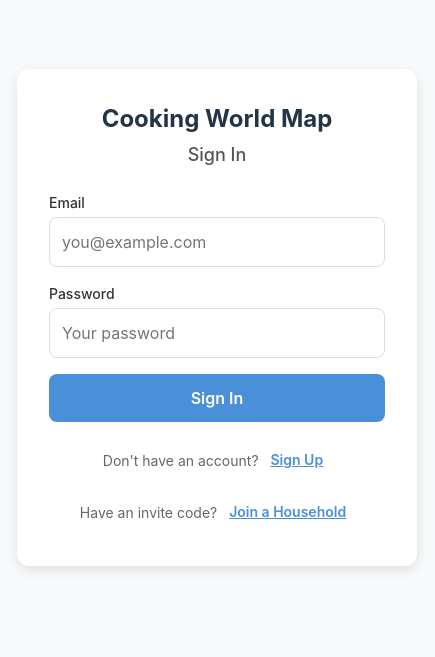
Scenario: AuthGate › Join Household flow (Req 8.4, 8.8) › shows validation error when invite code is empty
Expected: the field labelled "Email" is shown, 49,216 -> 385,266
// Switch to join-household mode
Click the button "Join a Household" at (288, 512), box 221,490 -> 354,534
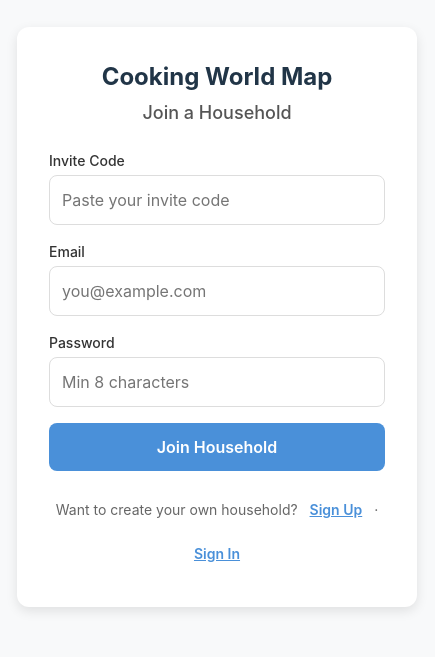
Type "partner@example.com" into the field labelled "Email" at (217, 291), box 49,266 -> 385,316
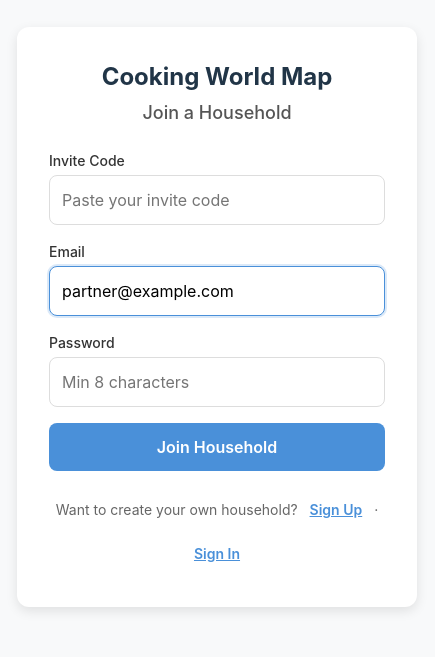
Type "password123" into the password field labelled "Password" at (217, 382), box 49,357 -> 385,407
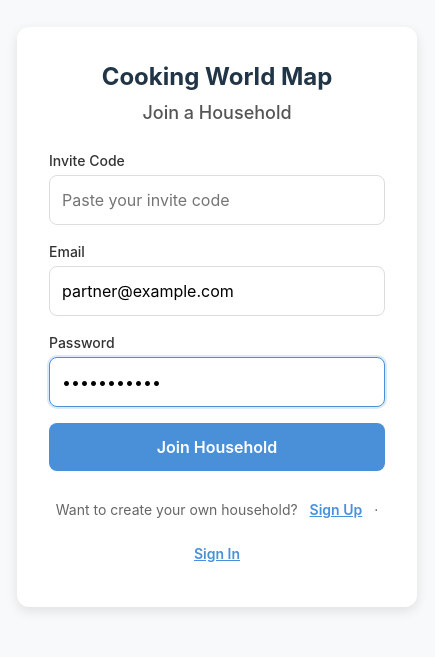
Click the button "Join Household" at (217, 447), box 49,423 -> 385,471
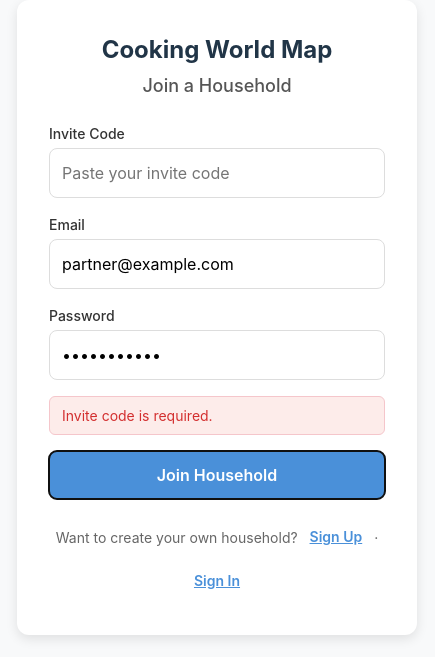
Now the message shows "Invite code is required", box 62,406 -> 213,424
